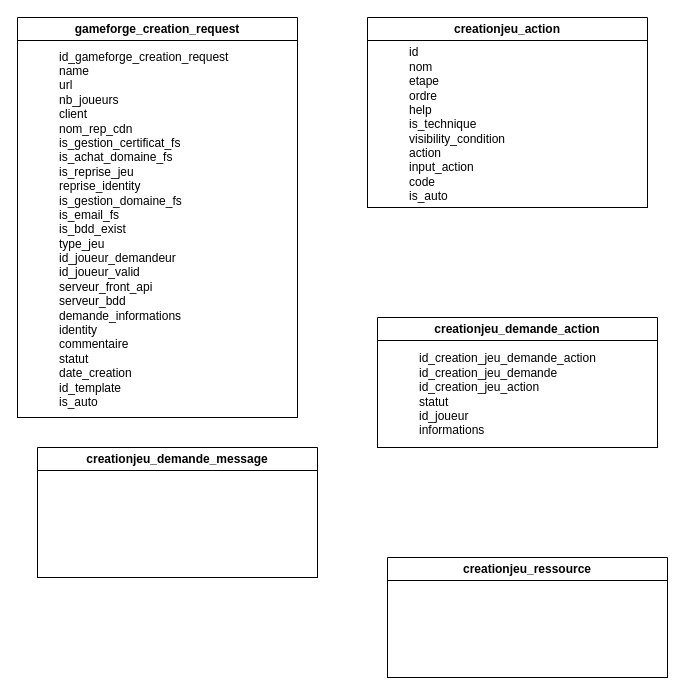
Image size: 685x695. Some labels were removed from this diagram. Each missing label, with the centre of its shape:
"id_creationjeu_ressource id_creationjeu_demande type information" belongs at (x=527, y=629).
"id_demande_message id_creationjeu_demande id_joueur statut message date_creation" belongs at (x=177, y=524).
